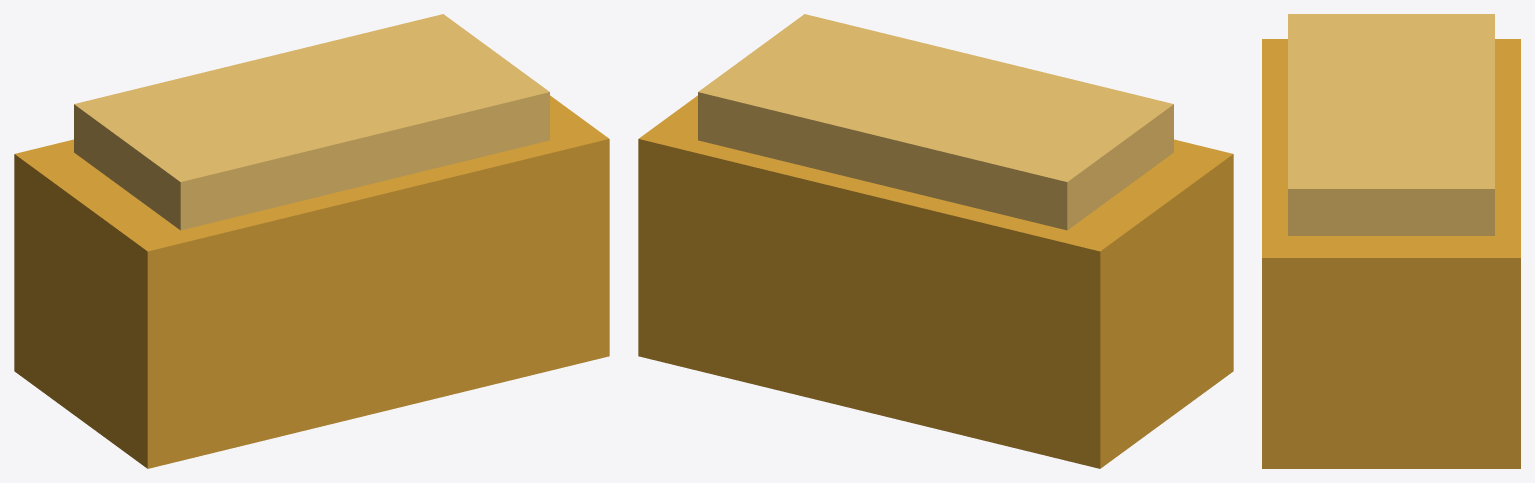
File: held-item.glb
3 renders of one model, left to right at view 1: azimuth 30°, elevation 25°; view 2: azimuth 150°, elevation 25°; view 3: azimuth 270°, elevation 25°, orthographic. The views are drawn at different scales.
Parts seen in each view (by area): view 1: goldbar; view 2: goldbar; view 3: goldbar.
Part boxes in pixels (box(x1,y1,x2,y2)): goldbar: box(14, 14, 609, 468); goldbar: box(638, 14, 1233, 468); goldbar: box(1262, 14, 1520, 468).
Size of the model in its own units: 0.2 by 0.11 by 0.1.
